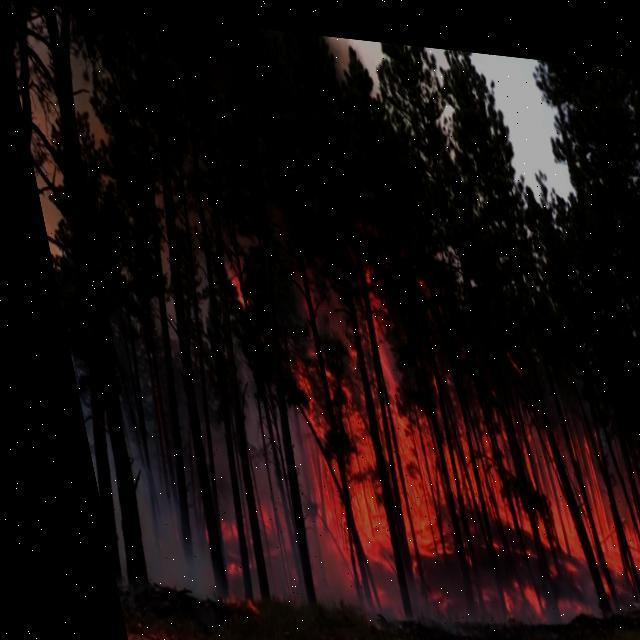Fire: (280, 338, 639, 594), (178, 501, 242, 615)
